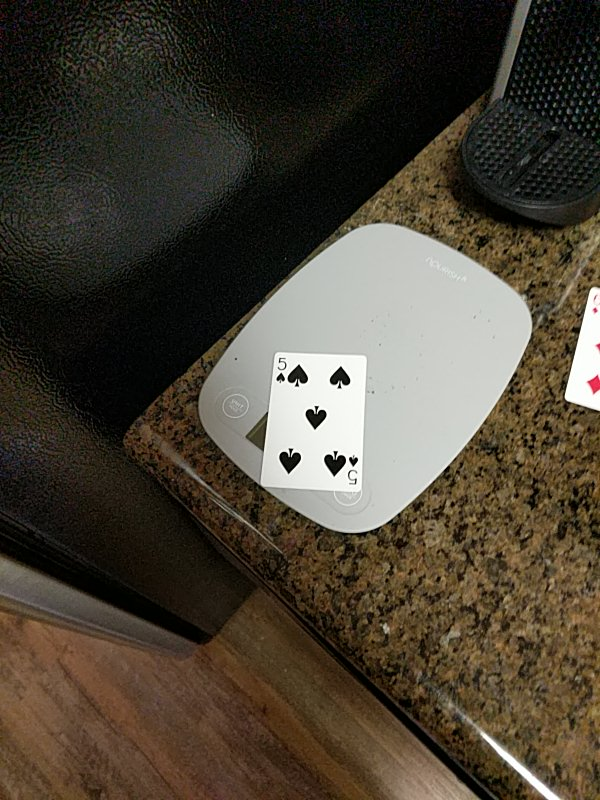Spades: (261, 352, 366, 493)
